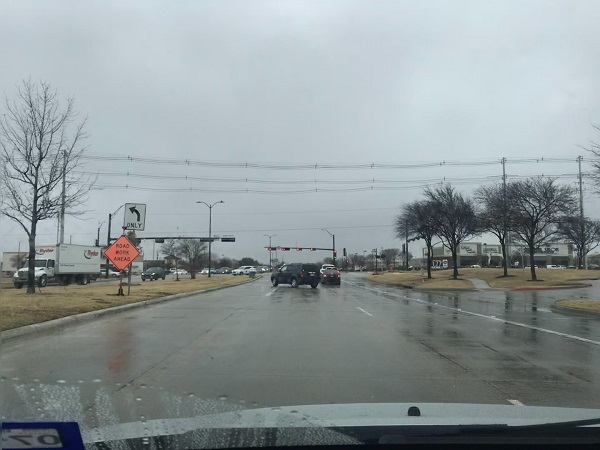car: (269, 263, 319, 288), (141, 266, 165, 283), (322, 269, 341, 284), (232, 266, 255, 274)
truck: (11, 243, 100, 286)
